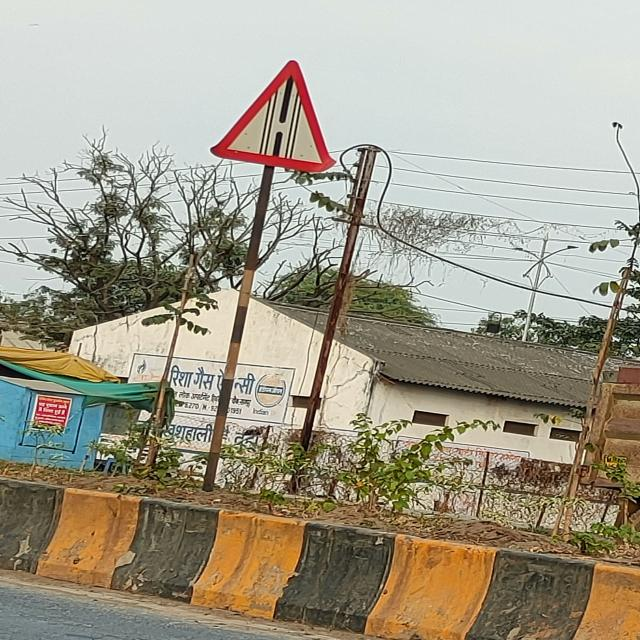ferry: (212, 58, 331, 170)
